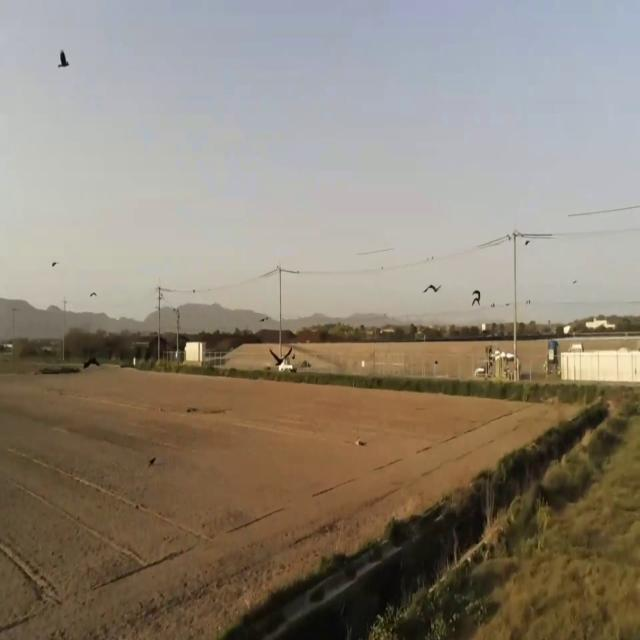bird: (423, 277, 442, 301), (58, 41, 70, 77), (472, 283, 482, 309)
